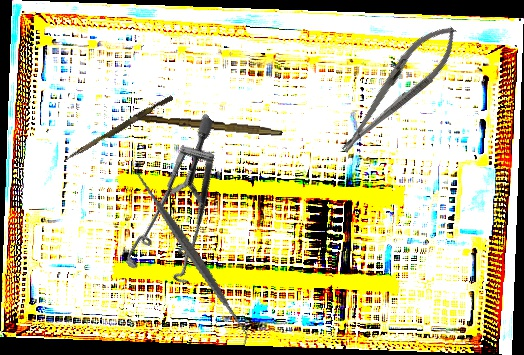Needle Holder: (327, 14, 469, 164)
Pusher: (63, 92, 174, 166)
Scalpel Handle: (132, 112, 284, 137)
Spatula Surgical: (97, 163, 287, 346)
Speculum: (83, 113, 282, 305)
